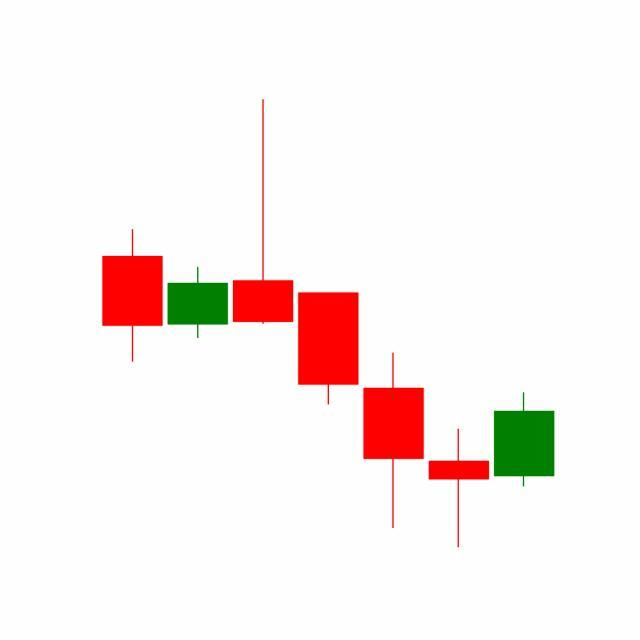Upside-Downside Gap Three Methods: (360, 349, 556, 548)
